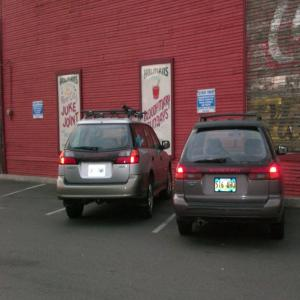Vehicle-registration-plate: (215, 178, 237, 194)
